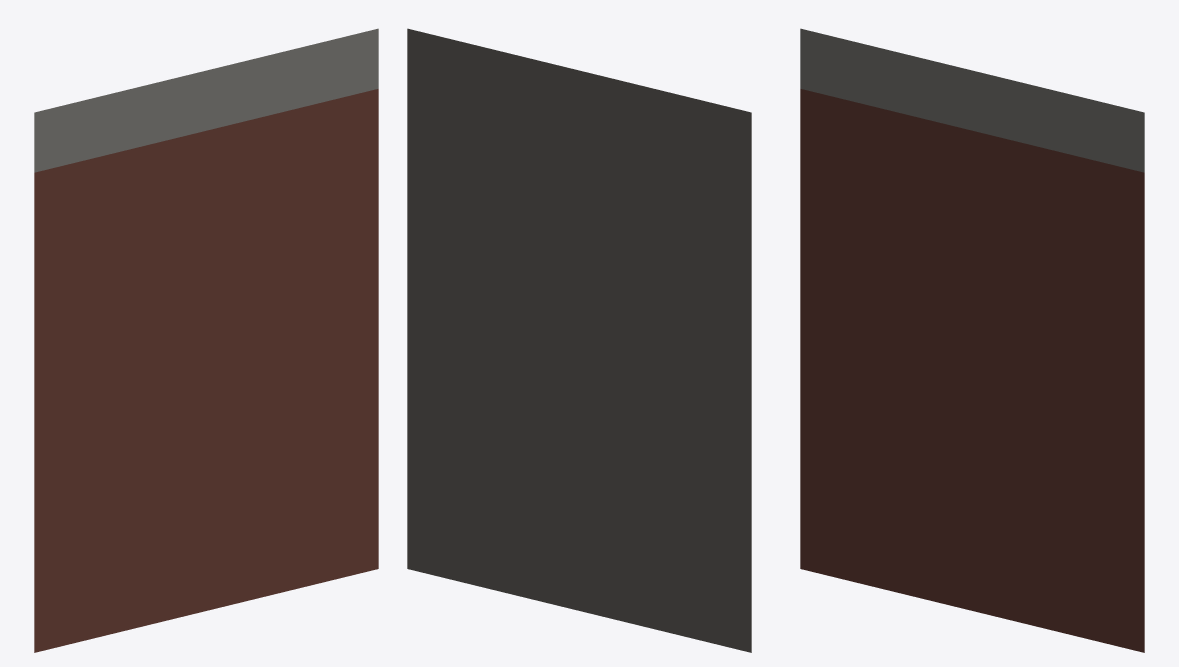
File: kit_city_trim_brick.glb
The picture shows the model from 3 angles, left to right: view 1: azimuth 30°, elevation 25°; view 2: azimuth 150°, elevation 25°; view 3: azimuth 330°, elevation 25°; orthographic projection.
Parts seen in each view (by area): view 1: kit_city_trim_brick; view 2: kit_city_trim_brick; view 3: kit_city_trim_brick.
Boxes of the visible parts, left/top/right/bottom form: kit_city_trim_brick: left=34, top=28, right=378, bottom=652; kit_city_trim_brick: left=407, top=28, right=751, bottom=652; kit_city_trim_brick: left=800, top=28, right=1144, bottom=652.
Size of the model in its own units: 2 by 3 by 0.2.
